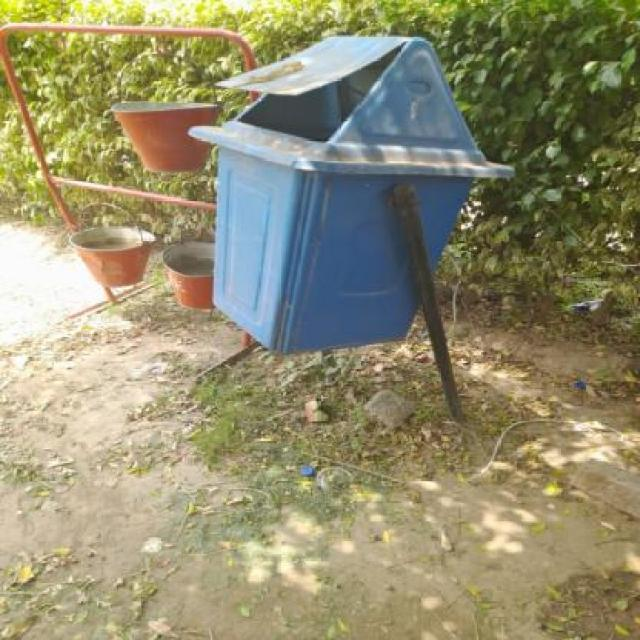garbage: (288, 458, 371, 504), (551, 374, 620, 417)
